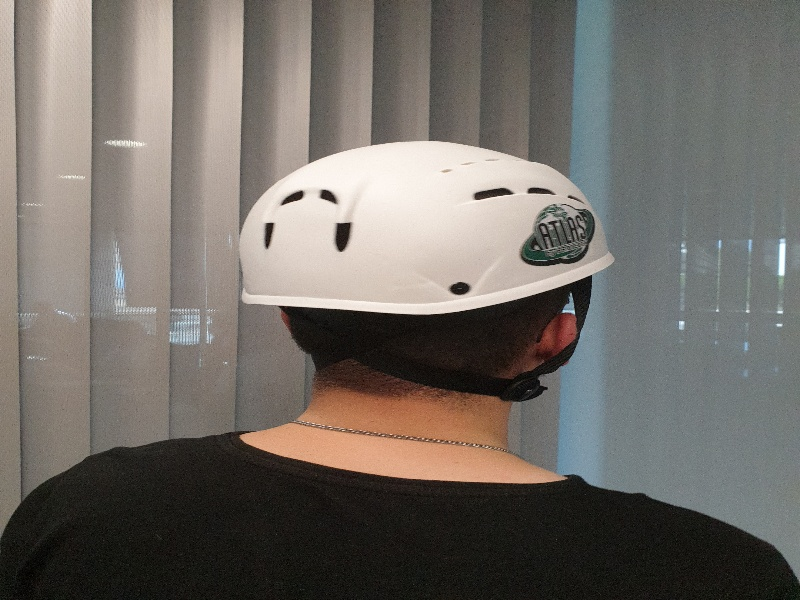Baret: (237, 139, 616, 306)
